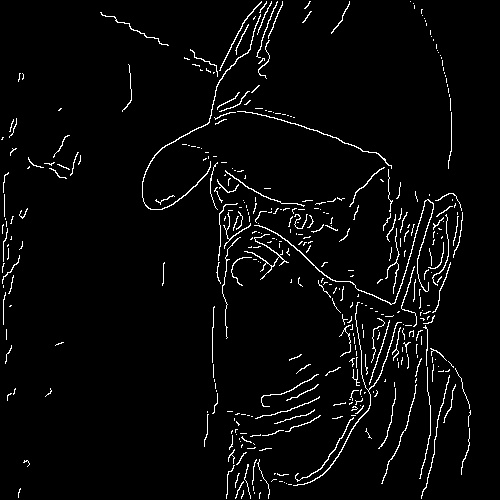mask: (207, 238, 380, 488)
